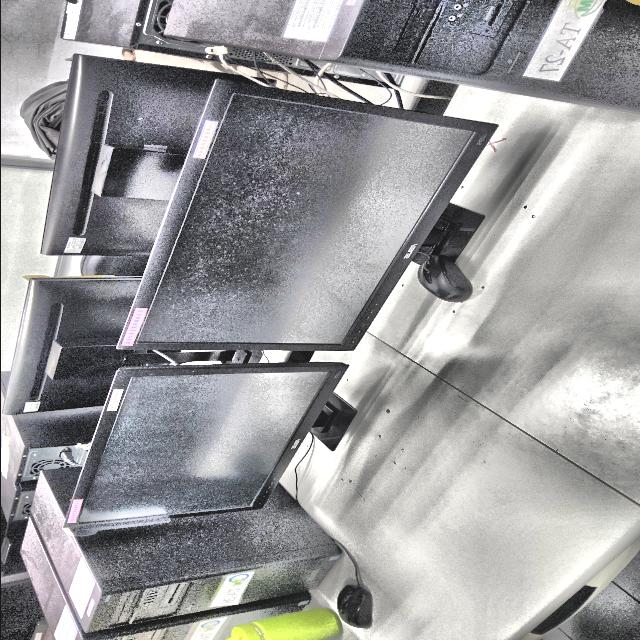MOUSE: (417, 255, 470, 302), (336, 585, 370, 627)
Screen: (132, 80, 493, 351), (74, 359, 348, 560), (40, 54, 250, 266), (9, 273, 257, 411)
